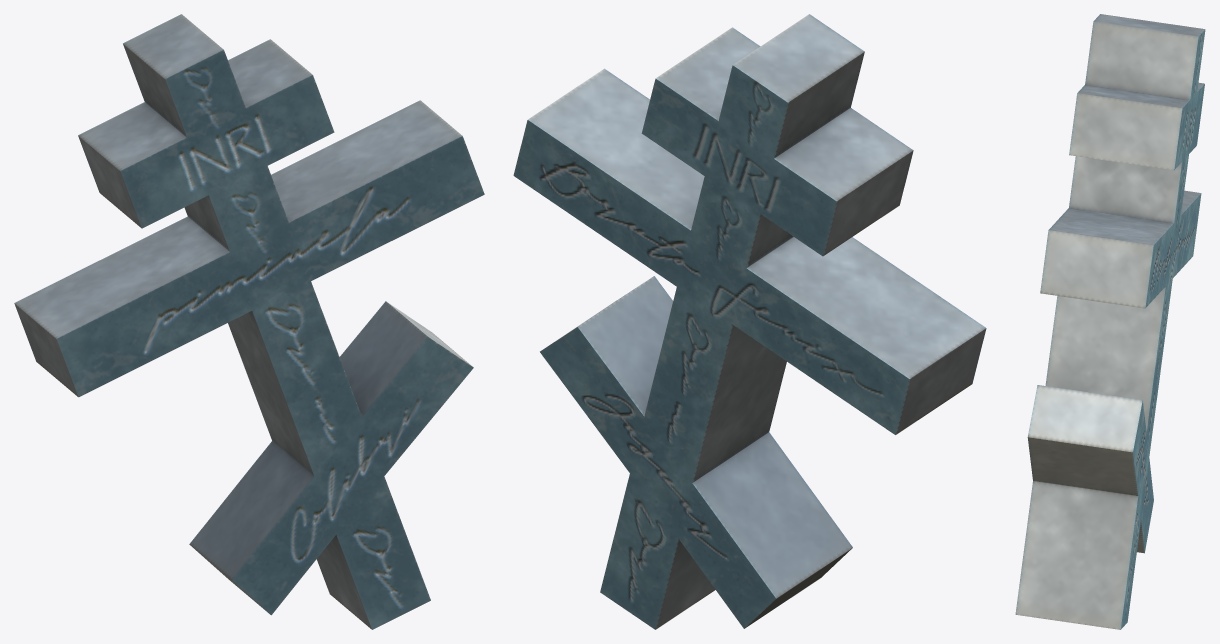
3 views of the same model, side by side, from view 1: azimuth 30°, elevation 25°; view 2: azimuth 150°, elevation 25°; view 3: azimuth 270°, elevation 25° (orthographic). The views are drawn at different scales.
Parts seen in each view (by area): view 1: Cruz_Orto_Cube.011; view 2: Cruz_Orto_Cube.011; view 3: Cruz_Orto_Cube.011.
Part boxes in pixels (box(x1,y1,x2,y2)): Cruz_Orto_Cube.011: box(14, 14, 484, 629); Cruz_Orto_Cube.011: box(513, 14, 986, 629); Cruz_Orto_Cube.011: box(1015, 14, 1205, 629).
Bounding box in the file's own units: 1.98 × 2.69 × 0.8521.
